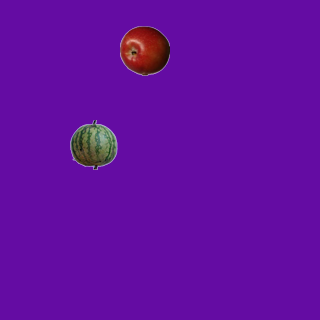Apple Braeburn: (119, 25, 169, 75)
Watermelon: (68, 119, 118, 169)
